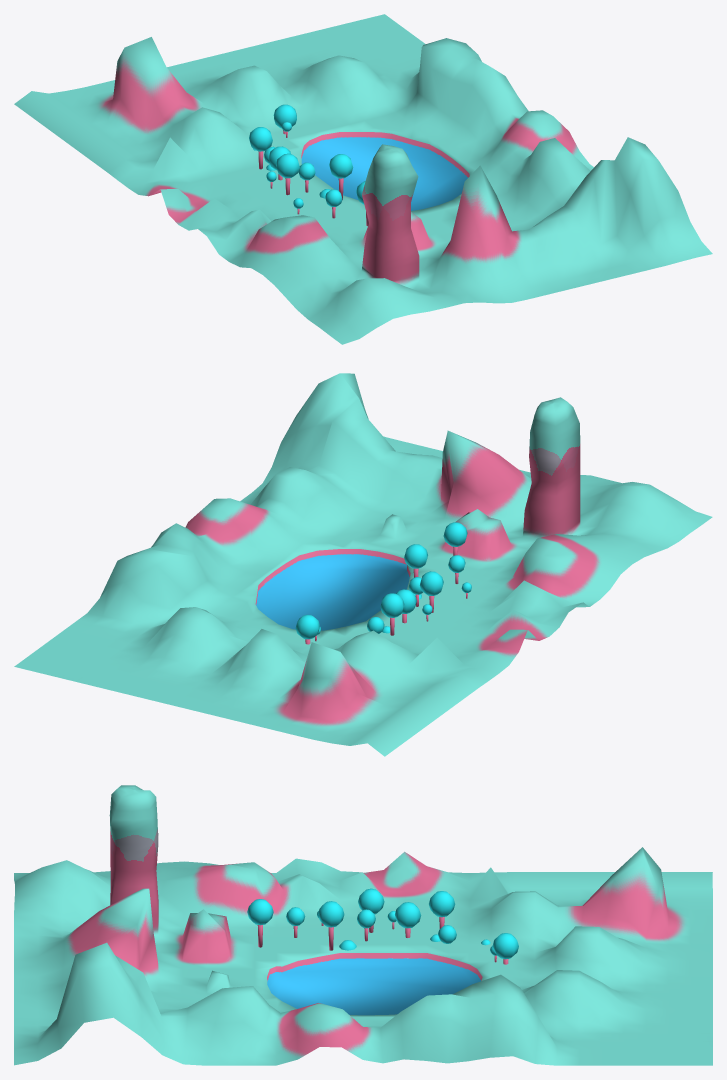
File: magnum.glb
3 renders of one model, top to bottom at view 1: azimuth 30°, elevation 25°; view 2: azimuth 150°, elevation 25°; view 3: azimuth 270°, elevation 25°, orthographic. The views are drawn at different scales.
Parts seen in each view (by area): view 1: Plane, Cylinder.008, Cylinder.001, Cylinder; view 2: Plane; view 3: Plane, Cylinder, Cylinder.007, Cylinder.001, Cylinder.011, Cylinder.012, Cylinder.008.
Part boxes in pixels (x1,y1,x2,y2): Plane: (14, 14, 712, 344); Cylinder.008: (276, 153, 299, 195); Cylinder.001: (249, 127, 272, 169); Cylinder: (329, 154, 353, 199); Plane: (14, 373, 712, 756); Plane: (14, 785, 712, 1065); Cylinder: (318, 901, 344, 950); Cylinder.007: (247, 899, 273, 947); Cylinder.001: (429, 891, 455, 928); Cylinder.011: (395, 902, 421, 937); Cylinder.012: (492, 933, 518, 964); Cylinder.008: (358, 888, 384, 932).
Bounding box in the file's own units: 92.52 × 37.02 × 140.
Materials: 2 (2 with a texture image).
